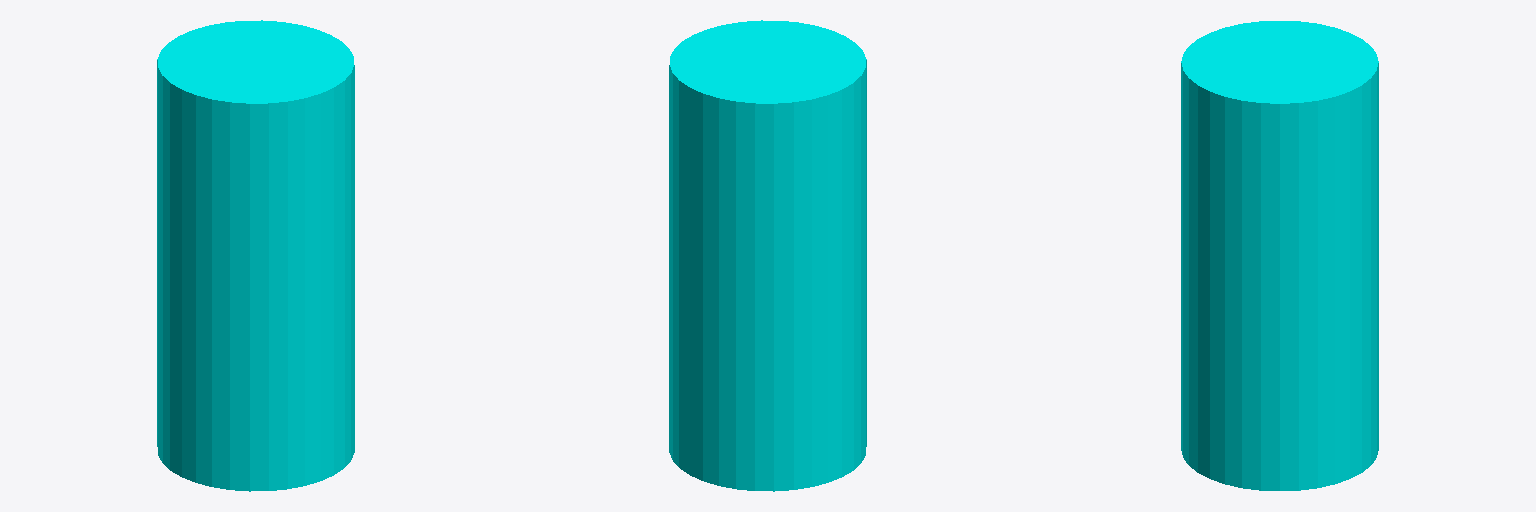
The robot description file, URDF, robot "cylinder":
<?xml version="1.0" ?>
<robot name="cylinder">
  <link name="cylinder_base_link">
    <contact>
      <restitution value="1.0"/>
      <lateral_friction value="0.5"/>
      <rolling_friction value="0.001"/>
      <contact_cfm value="0.0"/>
      <contact_erp value="1.0"/>
    </contact>
    <inertial>
      <mass value="0.2"/>
      <inertia ixx="0.0003267" ixy="0.0" ixz="0.0" iyy="0.0003267" iyz="0.0" izz="0.00009"/>
      <origin rpy="0 0 0" xyz="0 0 0"/>
    </inertial>
    <visual>
      <geometry>
        <cylinder length="0.13" radius="0.03"/>
      </geometry>
      <origin rpy="0 0 0" xyz="0 0 0"/>
       <material name="cyan">
        <color rgba="0 1 1 1"/>
      </material>
    </visual>
    <collision>
      <origin rpy="0 0 0" xyz="0 0 0"/>
      <geometry>
        <cylinder length="0.13" radius="0.03"/>
      </geometry>
    </collision>
  </link>
</robot>

--- Render facts (derived) ---
3 views of the same robot in one strip: view 1: azimuth 30°, elevation 25°; view 2: azimuth 150°, elevation 25°; view 3: azimuth 270°, elevation 25° (orthographic).
Model cylinder with 1 links and 0 joints (none), rooted at cylinder_base_link, posed every joint at zero.
Visible links, largest first — view 1: cylinder_base_link; view 2: cylinder_base_link; view 3: cylinder_base_link.
Boxes of the visible links, box(x1,y1,x2,y2) form: cylinder_base_link: box(157, 20, 354, 491); cylinder_base_link: box(669, 20, 866, 491); cylinder_base_link: box(1181, 21, 1378, 490).
Size in the robot's own frame: 0.06 by 0.06 by 0.13 metres.
Geometry: primitives only (box / cylinder / sphere), no mesh files.